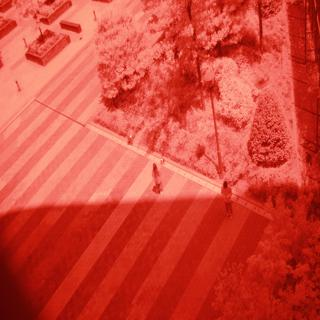person: (216, 176, 239, 224), (146, 158, 167, 204)
